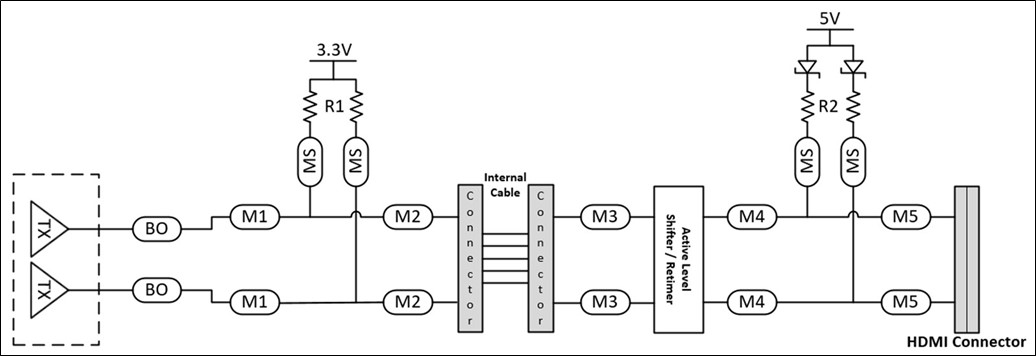diode: (789, 54, 826, 80), (838, 54, 875, 80)
dotted_rectangle: (6, 166, 105, 351)
oval: (787, 134, 825, 189), (831, 136, 869, 191), (289, 134, 327, 189), (340, 134, 378, 189), (719, 201, 777, 235), (874, 199, 932, 233), (875, 284, 933, 318), (724, 285, 779, 317), (129, 214, 186, 243), (127, 276, 184, 305), (226, 202, 283, 231), (226, 287, 283, 316), (378, 203, 435, 232), (380, 288, 437, 317), (576, 203, 633, 232), (576, 287, 633, 316)
power: (302, 39, 368, 71), (798, 4, 864, 36)
rectangle: (647, 181, 708, 333), (452, 177, 488, 335), (523, 181, 559, 339), (950, 182, 986, 337)
resistor: (300, 88, 324, 127), (345, 87, 369, 126), (794, 88, 818, 127), (841, 88, 865, 127)
triangle: (25, 195, 75, 260), (26, 257, 76, 322)
